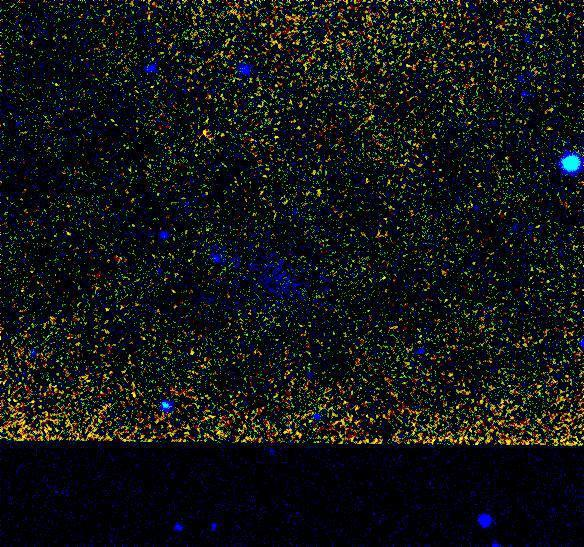star: (194, 115, 224, 145)
